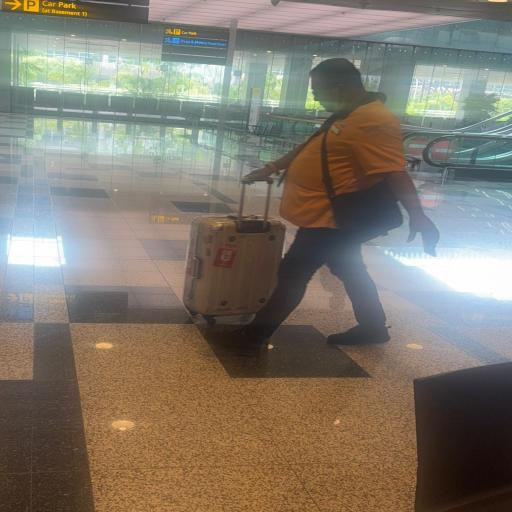person_with_luggage_left: (178, 56, 404, 356)
